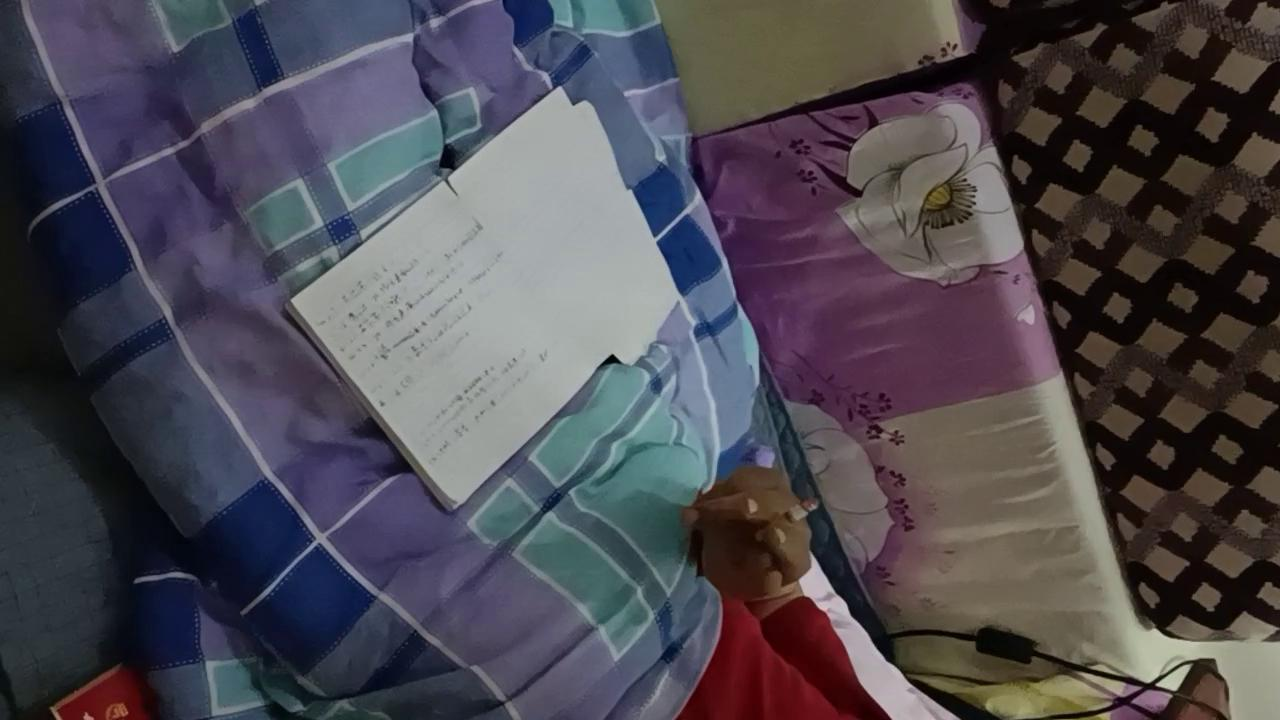smoke: (756, 498, 819, 542)
